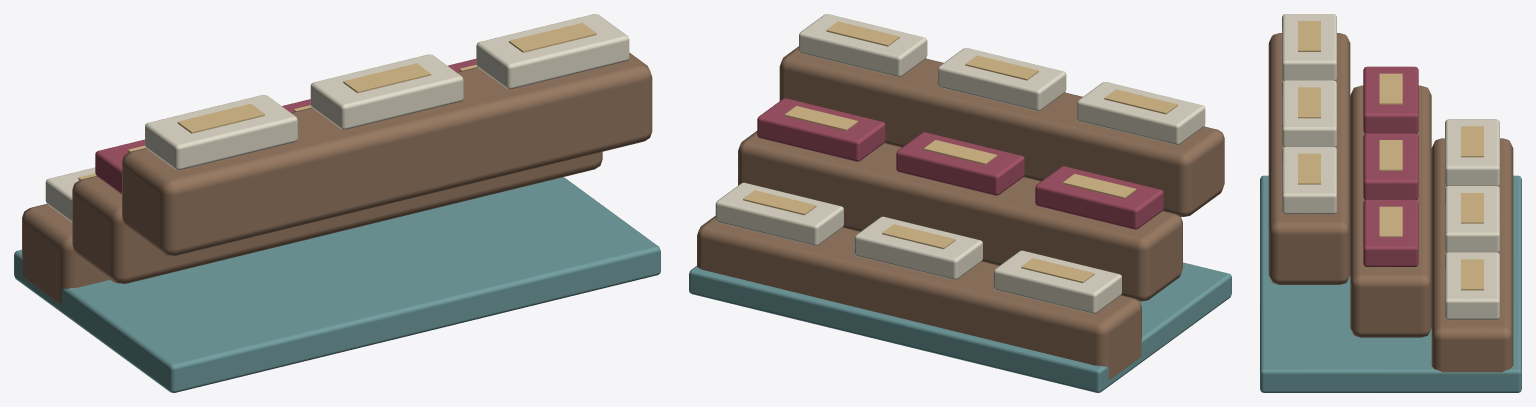
The model's file is abandoned-cinema-and-projection-booth-abandoned-cinema-8e588977__29727.glb.
3 renders of one model, left to right at view 1: azimuth 30°, elevation 25°; view 2: azimuth 150°, elevation 25°; view 3: azimuth 270°, elevation 25°, orthographic. The views are drawn at different scales.
Visible parts, largest first — view 1: abandoned-cinema-and-projection-booth-candy-display; view 2: abandoned-cinema-and-projection-booth-candy-display; view 3: abandoned-cinema-and-projection-booth-candy-display.
Boxes of the visible parts, left/top/right/bottom form: abandoned-cinema-and-projection-booth-candy-display: left=14, top=14, right=660, bottom=392; abandoned-cinema-and-projection-booth-candy-display: left=689, top=14, right=1231, bottom=392; abandoned-cinema-and-projection-booth-candy-display: left=1260, top=14, right=1521, bottom=392.
Bounding box in the file's own units: 0.8012 × 0.368 × 0.45.
